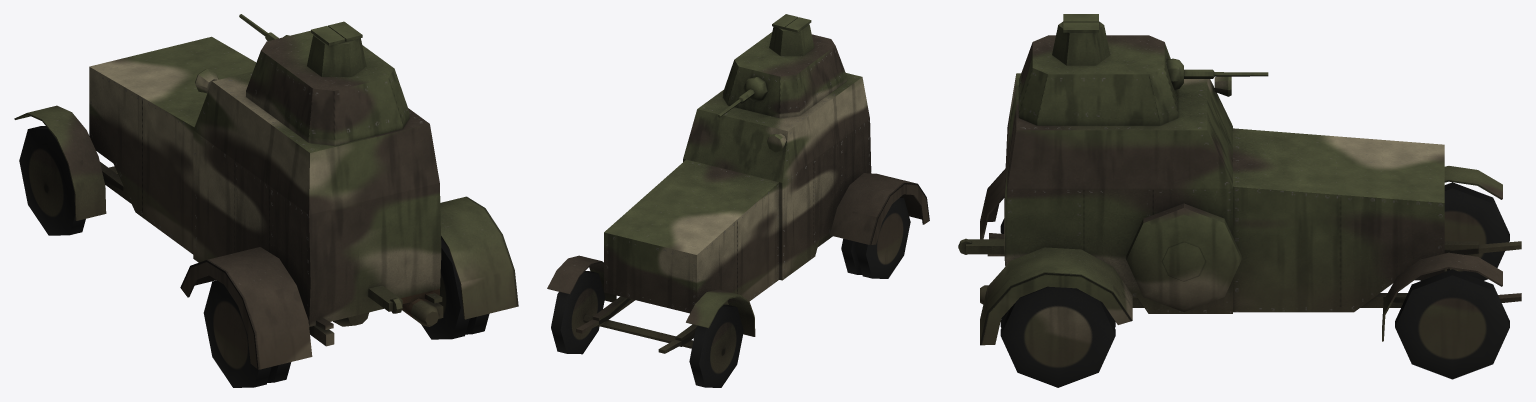
File: WZ34_CKM_MID.fbx
3 renders of one model, left to right at view 1: azimuth 30°, elevation 25°; view 2: azimuth 150°, elevation 25°; view 3: azimuth 270°, elevation 25°, orthographic. The views are drawn at different scales.
Parts seen in each view (by area): view 1: Chassis, Tourelle_01, Roue_02, Roue_Gauche_01; view 2: Chassis, Tourelle_01, Roue_Gauche_01, Roue_02, Roue_Droite_01, Axe_Canon_01; view 3: Chassis, Tourelle_01, Roue_Droite_01, Roue_02, Roue_Gauche_01, Canon_01.
Part boxes in pixels (bbox=[...]): Chassis: bbox=[14, 36, 518, 369]; Tourelle_01: bbox=[246, 21, 409, 145]; Roue_02: bbox=[203, 237, 489, 387]; Roue_Gauche_01: bbox=[19, 126, 85, 235]; Chassis: bbox=[547, 73, 929, 353]; Tourelle_01: bbox=[723, 14, 846, 118]; Roue_Gauche_01: bbox=[689, 304, 743, 387]; Roue_02: bbox=[841, 197, 910, 278]; Roue_Droite_01: bbox=[551, 271, 605, 354]; Axe_Canon_01: bbox=[743, 76, 767, 101]; Chassis: bbox=[958, 73, 1521, 345]; Tourelle_01: bbox=[1019, 14, 1178, 125]; Roue_Droite_01: bbox=[1395, 269, 1509, 379]; Roue_02: bbox=[1000, 218, 1115, 387]; Roue_Gauche_01: bbox=[1420, 182, 1509, 280]; Canon_01: bbox=[1184, 69, 1268, 78].
Bounding box in the file's own units: 191 × 367 × 224.
Materials: 1 (1 with a texture image).
